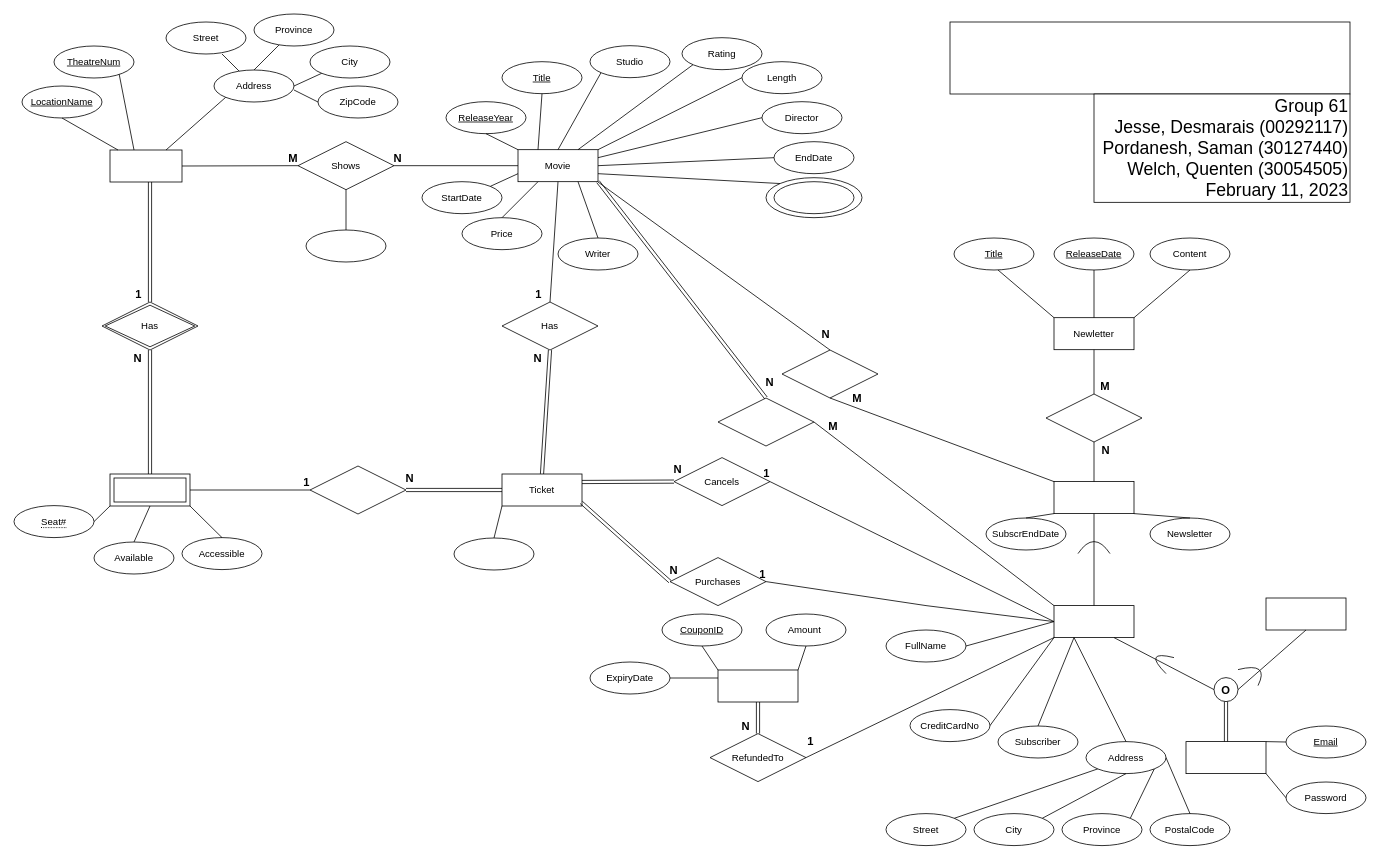
Some shapes in this 1380 by 860 pixel diagram are drawn without their labels. Each missing label, with the centre of its shape:
Administrator: the point at 1305,613
Coupon: the point at 757,685
CPSC 471 - Data Base Management Systems Extended Entity Relationship Diagram: the point at 1149,57
Customer: the point at 1093,621
For: the point at 357,489
HasFav: the point at 829,373
HasWatched: the point at 765,421
Seat: the point at 149,489
SentTo: the point at 1093,417
ShowTime: the point at 345,245
Starring: the point at 813,197
SubscrCust: the point at 1093,497
Theater: the point at 145,165
TicketID: the point at 493,553
User: the point at 1225,757
